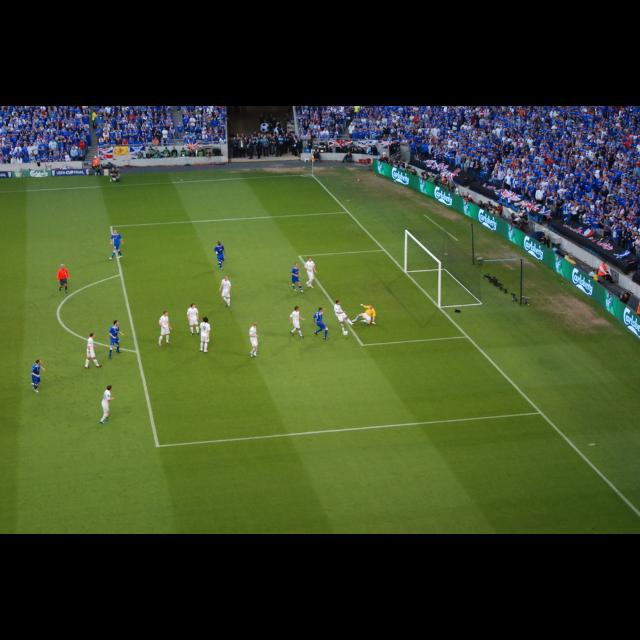Football: (342, 330, 346, 334)
